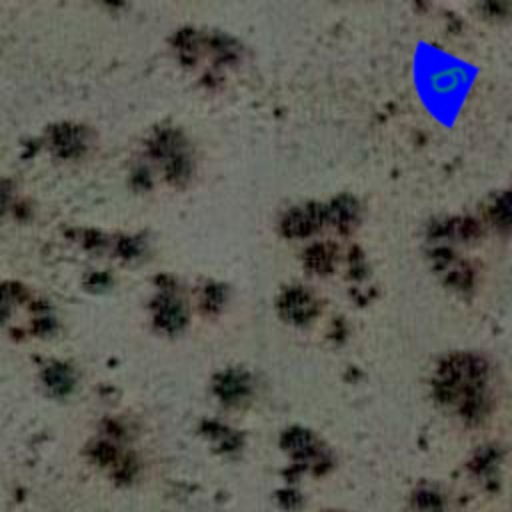quarter_circle: (384, 24, 500, 140)
